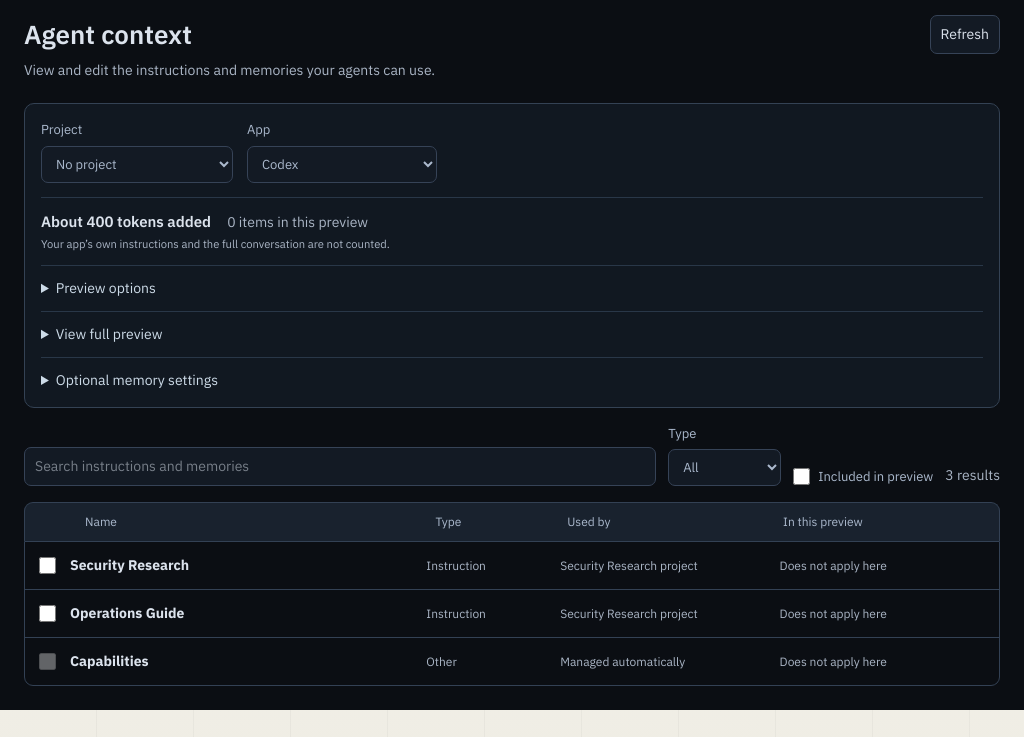
Agent context › keeps a stale draft available after the server rejects Save
The width and height of the screenshot is (1024, 737).
Click the button "Security Research" at (130, 565), box [70,542,999,589]
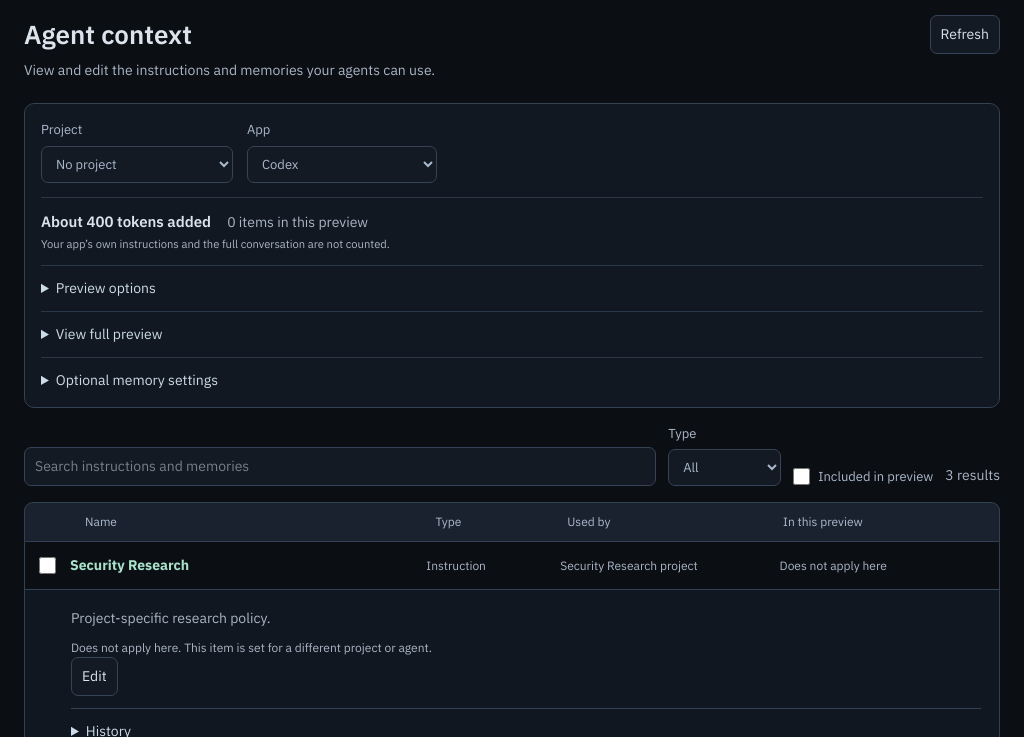
Click the button "Edit" at (94, 677), box [71,657,118,696]
(page scrolled)
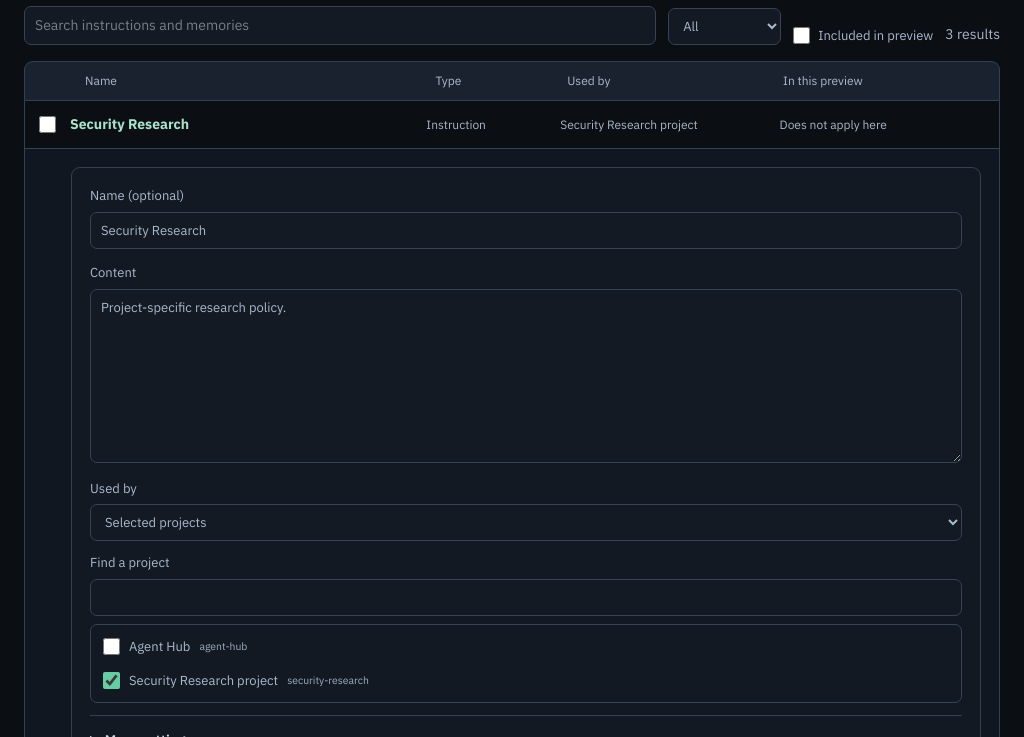
Replace the text in the text box labelled "Content" with "Keep this draft." at (526, 376), box [90,289,962,463]
(page scrolled)
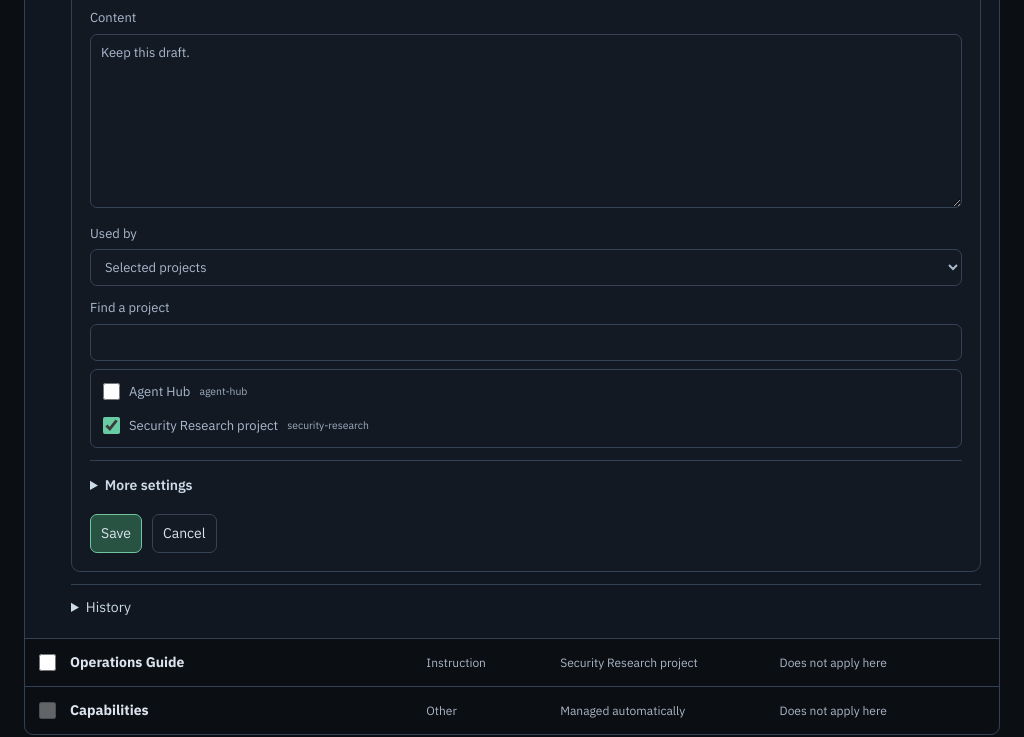
Click the button "Save" at (116, 534), box [90,514,142,553]
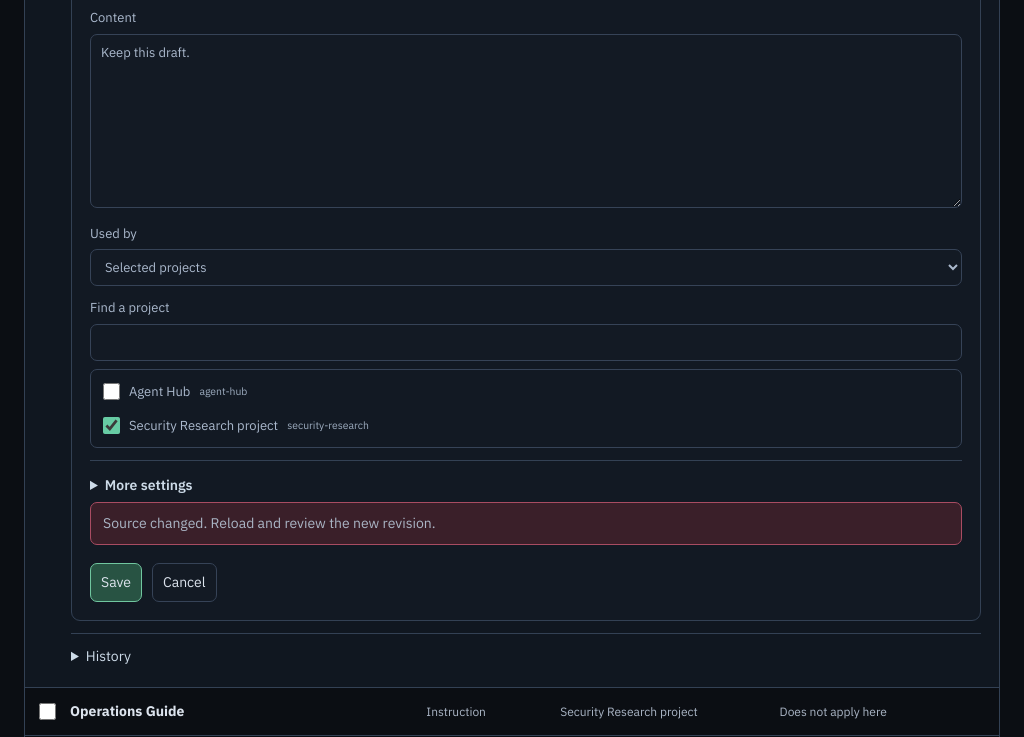
Expected: the message shows "Source changed", [103,514,436,532]
